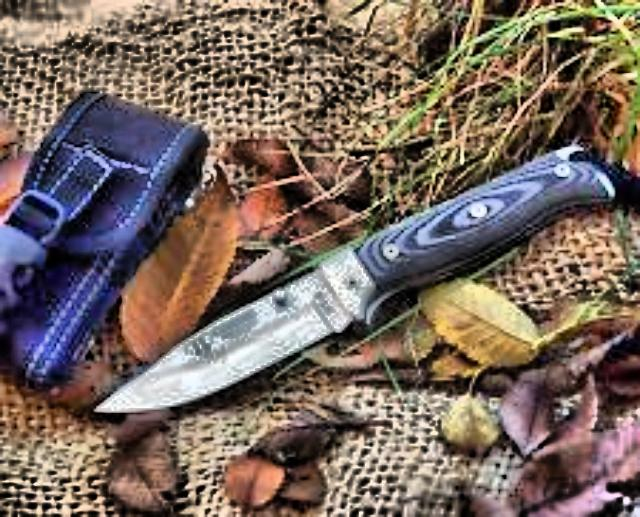knife: (82, 236, 398, 416)
